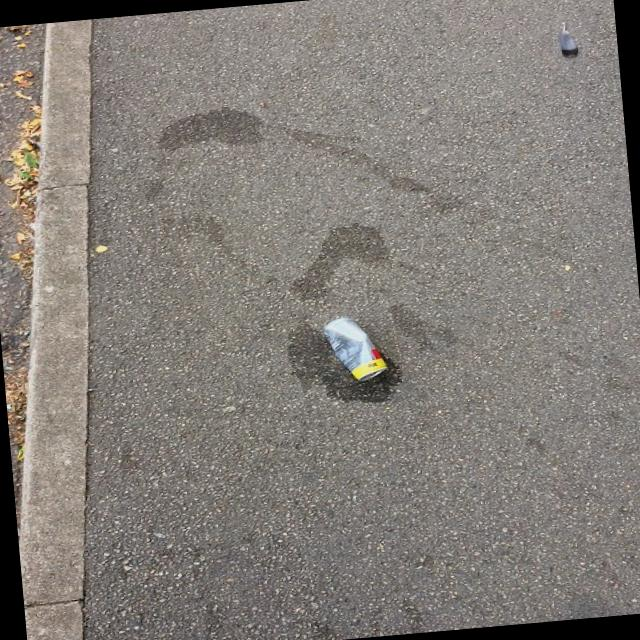Recycle: (321, 310, 391, 383)
